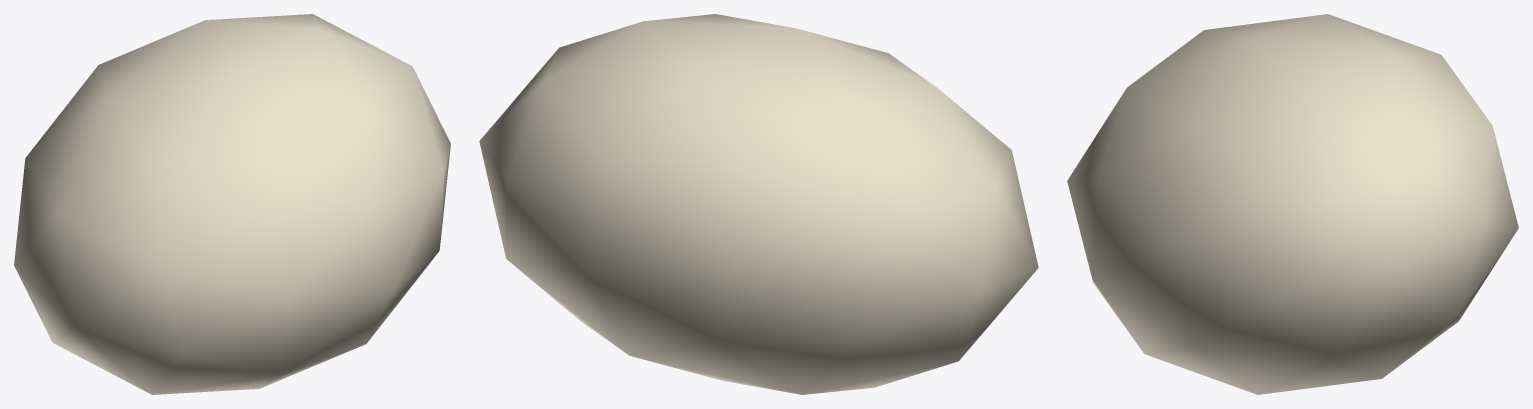
File: rock.glb
3 views of the same model, side by side, from view 1: azimuth 30°, elevation 25°; view 2: azimuth 150°, elevation 25°; view 3: azimuth 270°, elevation 25° (orthographic). The views are drawn at different scales.
Visible parts, largest first — view 1: rock; view 2: rock; view 3: rock.
Boxes of the visible parts, bbox=[...] form: rock: bbox=[14, 14, 450, 394]; rock: bbox=[479, 14, 1038, 394]; rock: bbox=[1067, 14, 1518, 394].
Size of the model in its own units: 1.23 by 0.8267 by 1.06.
